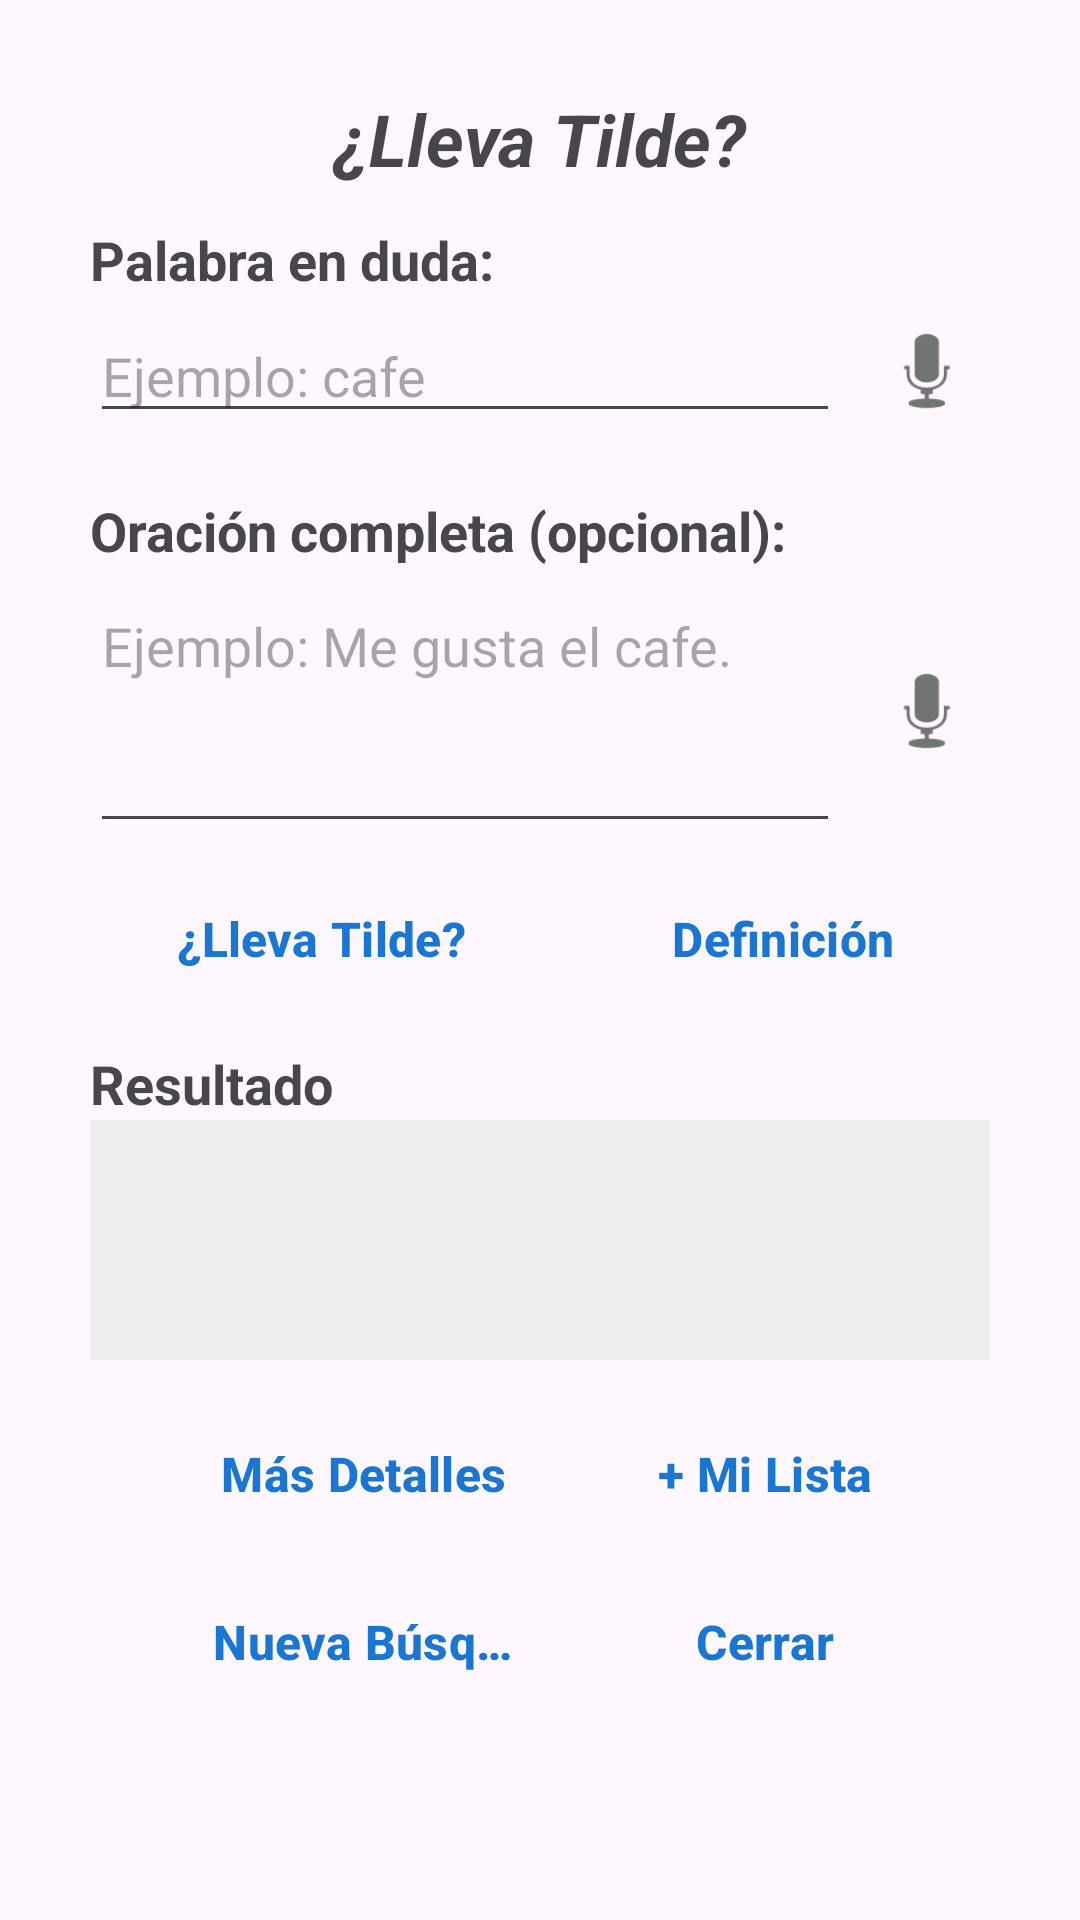

Icon bounding boxes for this 1080 × 1920 phone screenshot, format bbox=[x1, y1, x2, y2]:
Di la oración para escribirla: bbox=[903, 674, 951, 748]
Di la palabra para escribirla: bbox=[903, 334, 951, 408]
